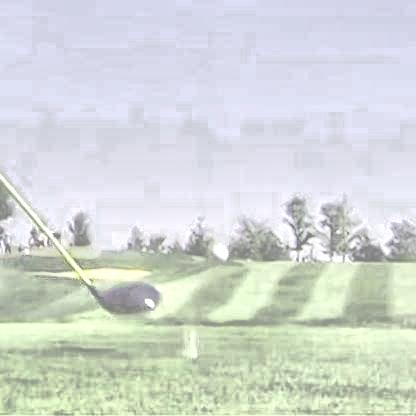golfball: (207, 241, 227, 262)
